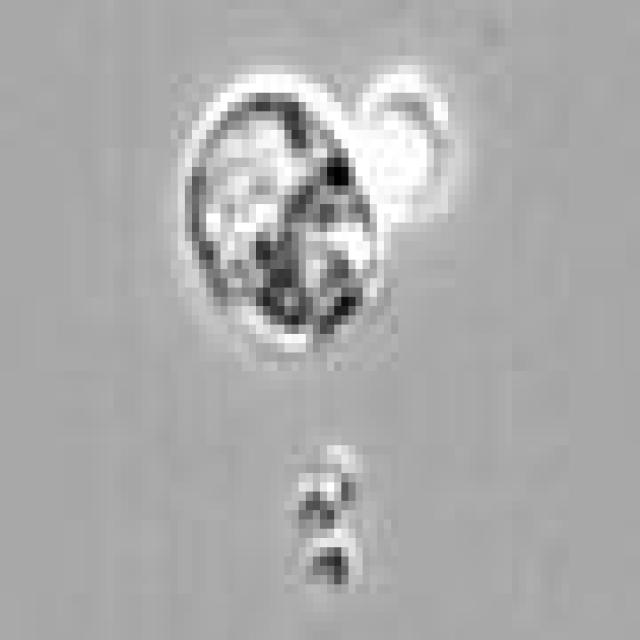Cancer Cell: (192, 84, 377, 343)
WBC: (348, 84, 448, 222)
